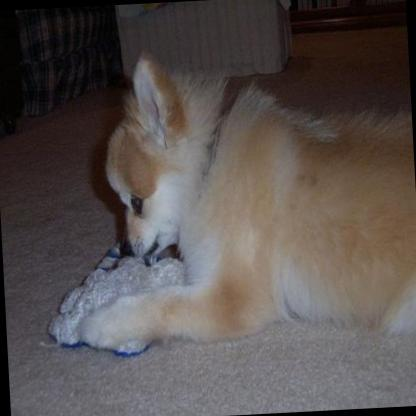Pomeranian: (60, 33, 416, 358)
